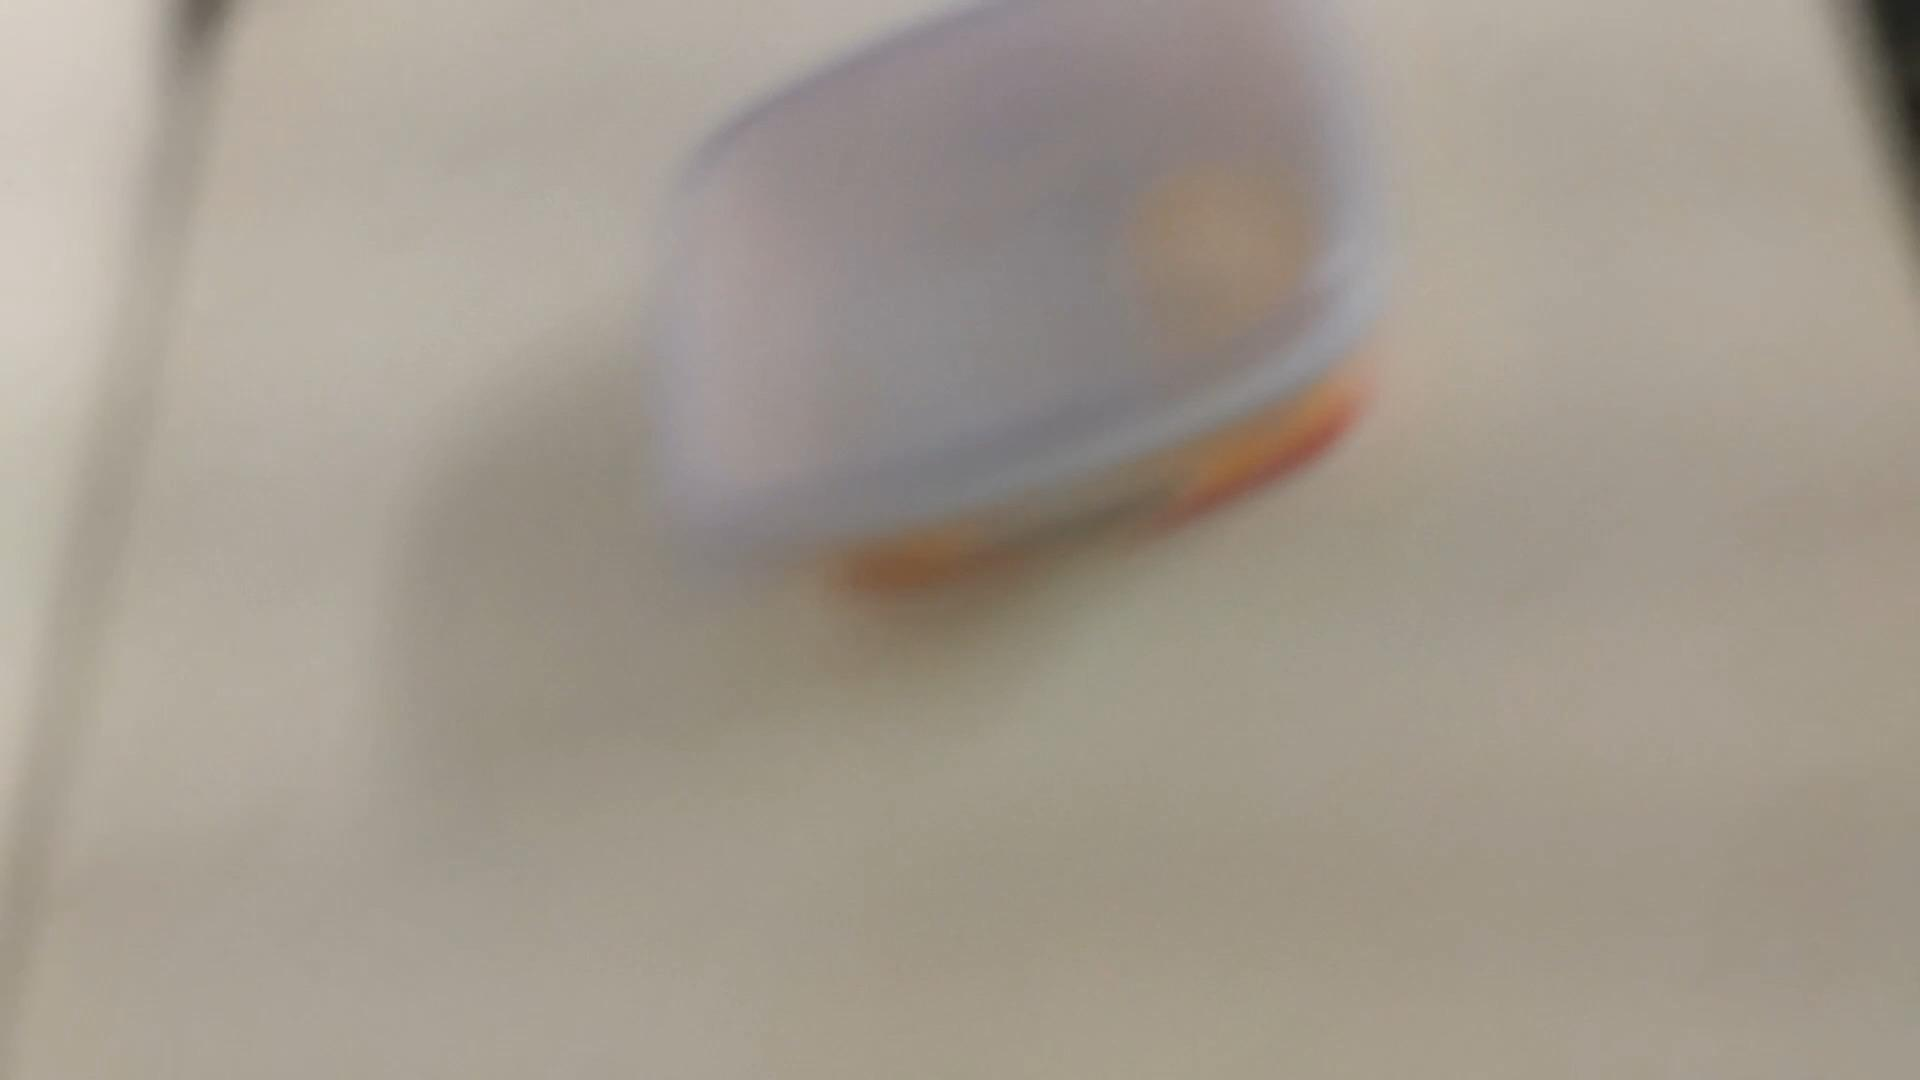butter: (644, 0, 1399, 597)
